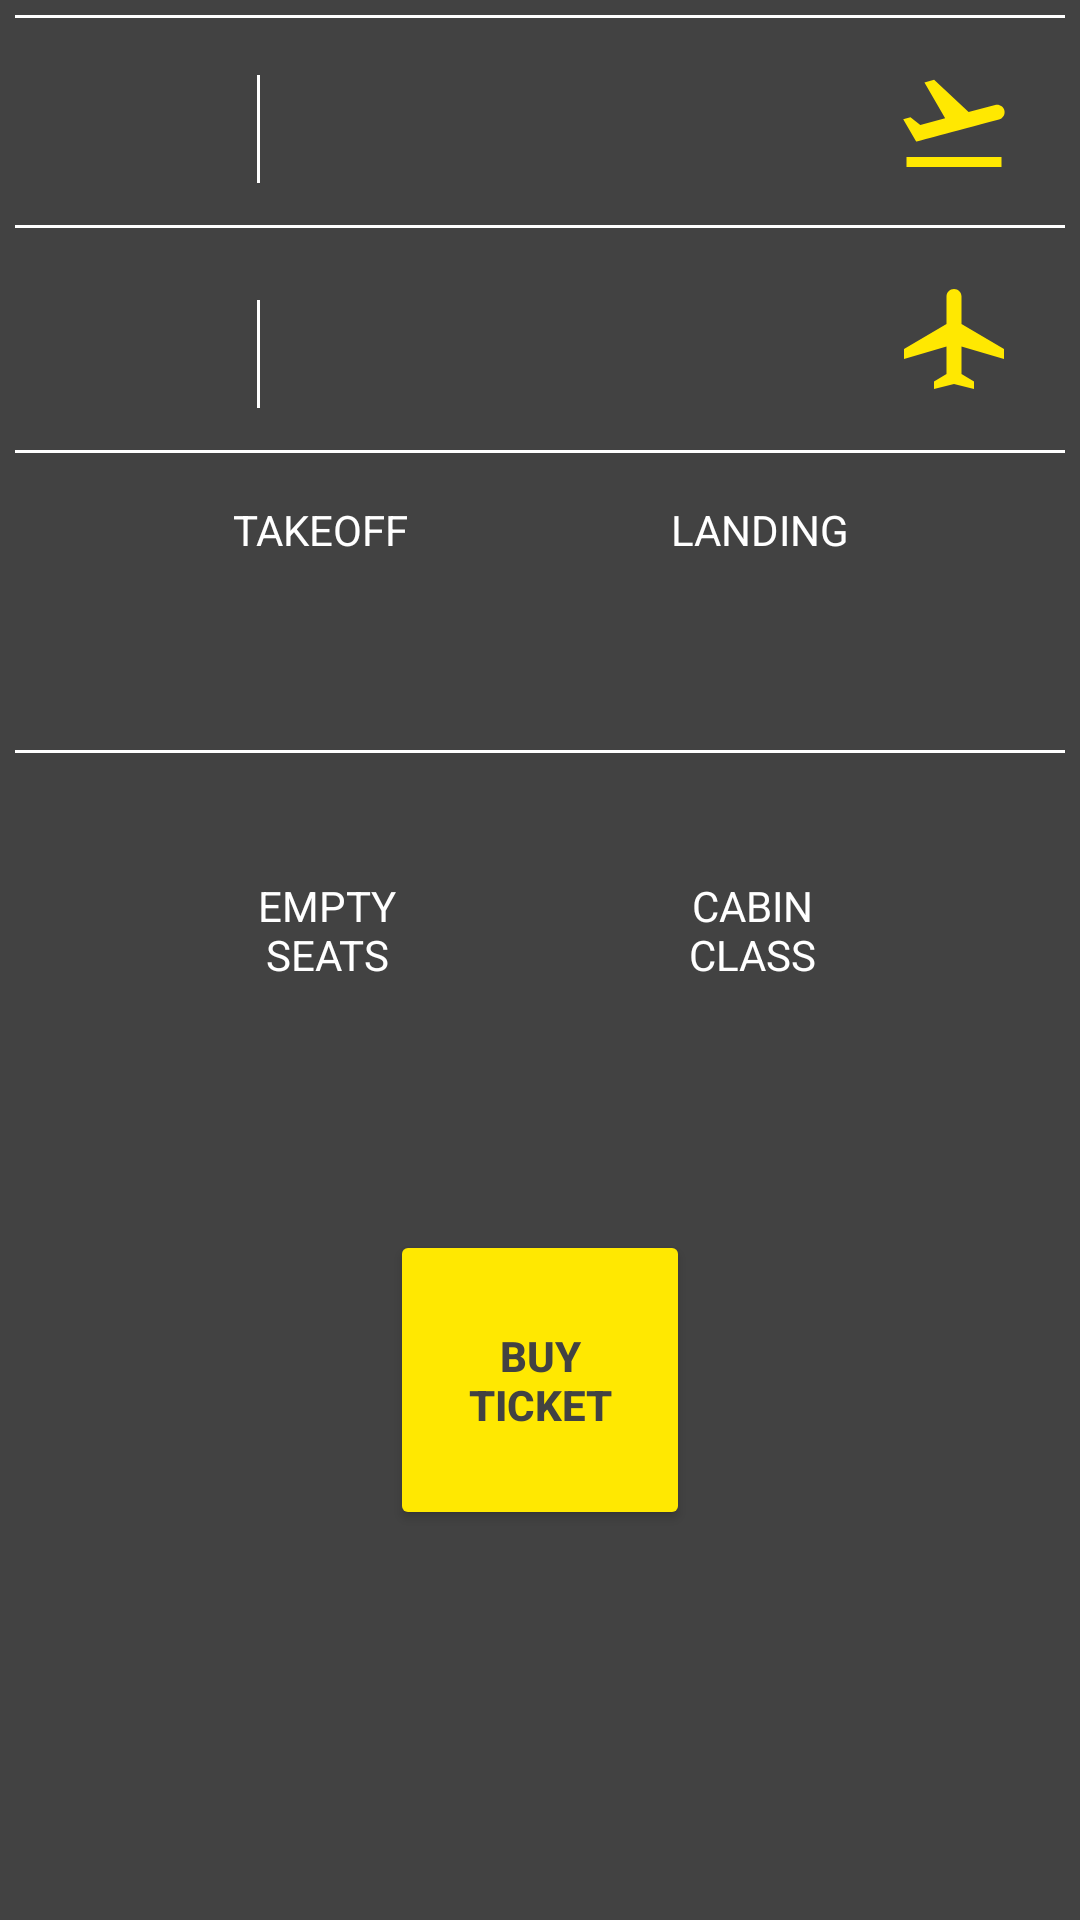

Point at icon controls on the screen. Image size 1080w x 1920h, points as [x,y].
airplanes: [954,339]
flights: [954,123]
